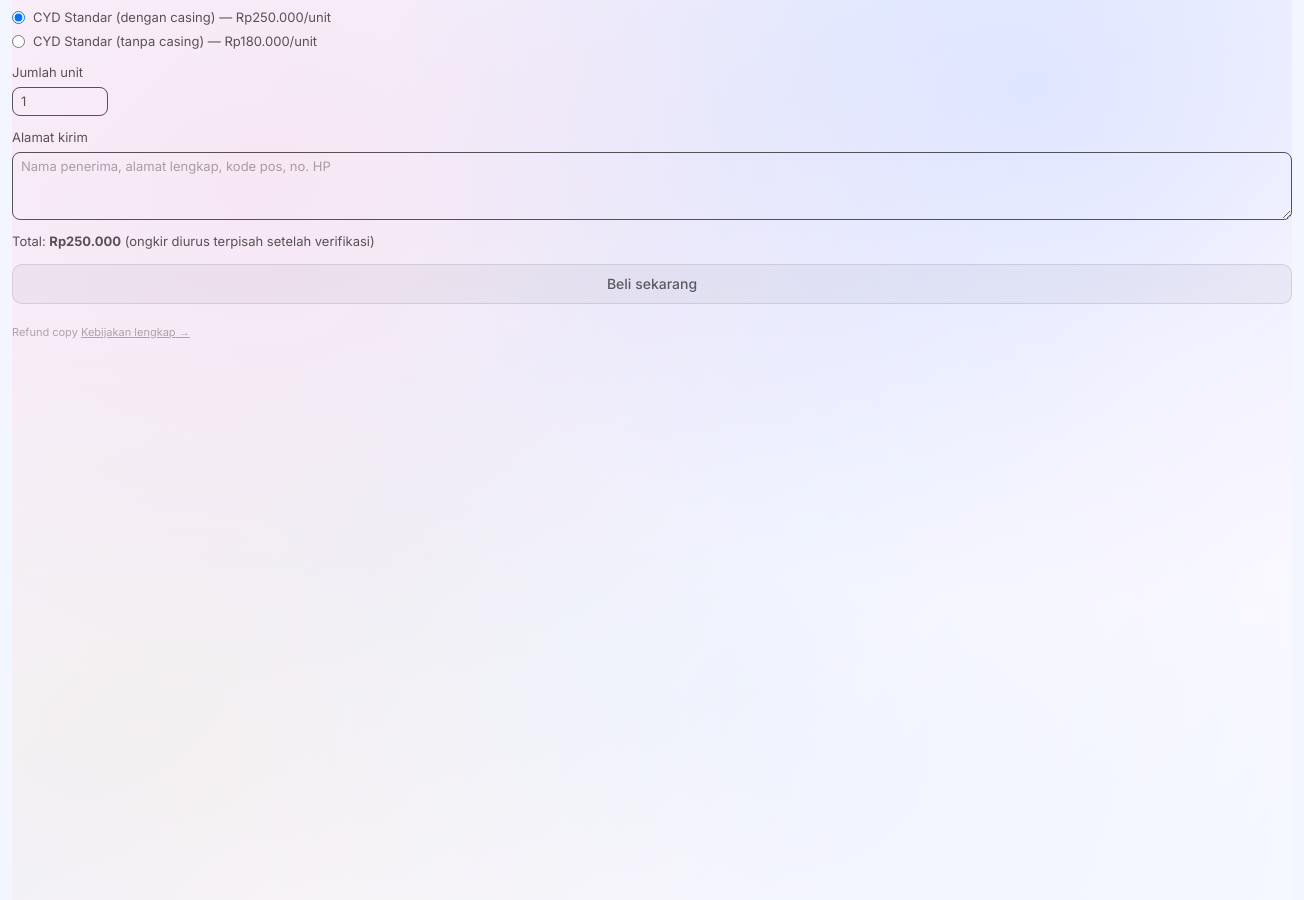
BeliCydCheckout › shows an error when shipping address is missing on submit (400)
Click the button "Beli sekarang" at (652, 284), box [12,264,1292,304]
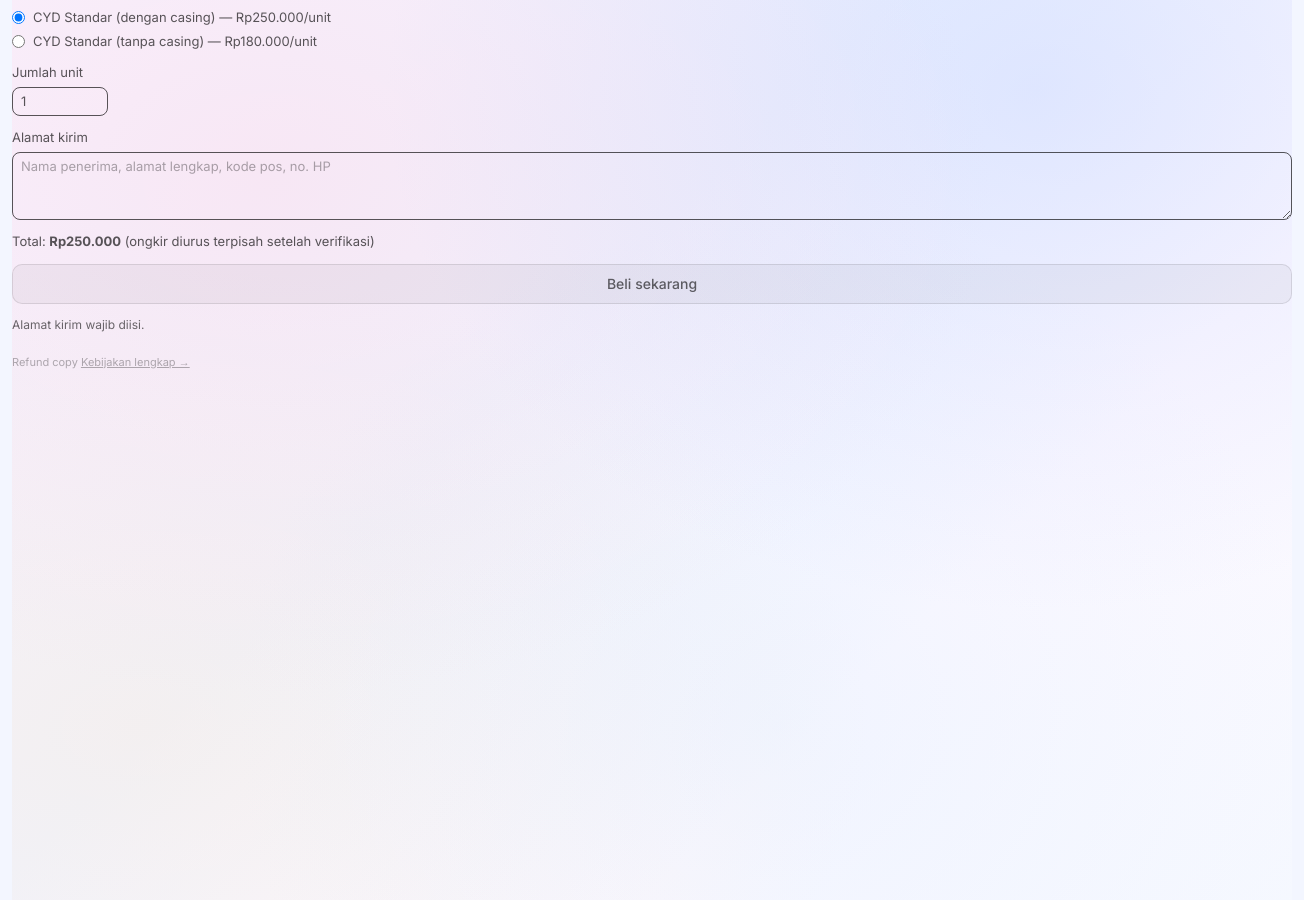
expect the text "Alamat kirim wajib diisi." is shown: met, box [12,316,144,332]
